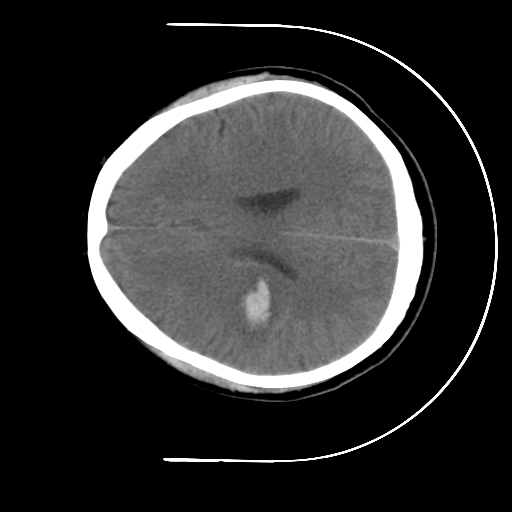a: (230, 263, 281, 345)
